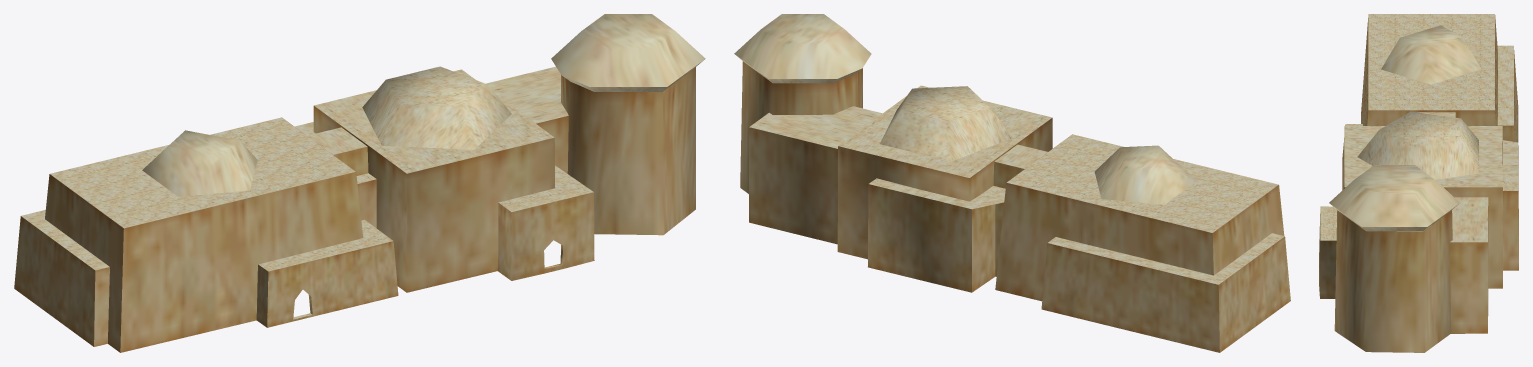
File: thm_tato_block_bldg_64x32_s01_r0_exterior_mesh_l3.fbx
3 renders of one model, left to right at view 1: azimuth 30°, elevation 25°; view 2: azimuth 150°, elevation 25°; view 3: azimuth 270°, elevation 25°, orthographic. The views are drawn at different scales.
Visible parts, largest first — view 1: mesh_node; view 2: mesh_node; view 3: mesh_node.
Boxes of the visible parts, x1,y1,x2,y2 form: mesh_node: (14,14,705,352); mesh_node: (734,14,1290,352); mesh_node: (1319,14,1518,352).
Size of the model in its own units: 66.95 by 19.04 by 22.72.
1 material, 1 textured.
